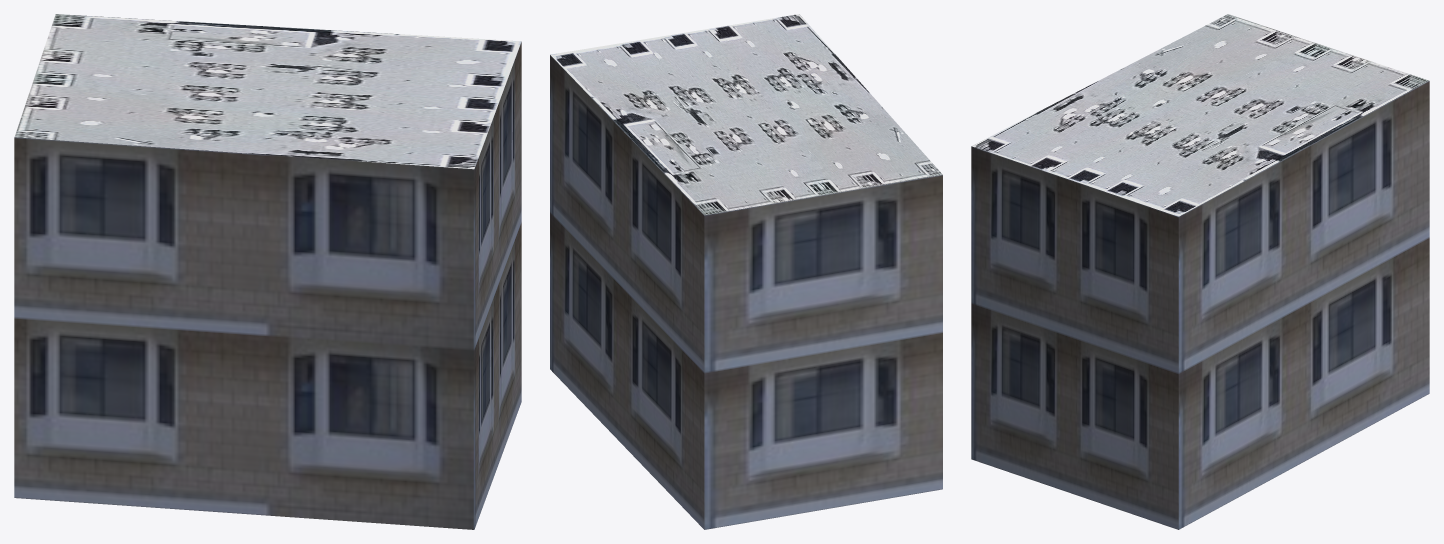
The model's file is ResTex__1777.fbx.
3 views of the same model, side by side, from view 1: azimuth 30°, elevation 25°; view 2: azimuth 150°, elevation 25°; view 3: azimuth 270°, elevation 25° (orthographic). The views are drawn at different scales.
Visible parts, largest first — view 1: CityEngineMaterial_3_m, CityEngineMaterial_8_m; view 2: CityEngineMaterial_3_m, CityEngineMaterial_8_m; view 3: CityEngineMaterial_3_m, CityEngineMaterial_8_m.
Part boxes in pixels (x1,y1,x2,y2): CityEngineMaterial_3_m: (14, 42, 521, 529); CityEngineMaterial_8_m: (14, 14, 521, 169); CityEngineMaterial_3_m: (550, 55, 942, 529); CityEngineMaterial_8_m: (550, 14, 942, 215); CityEngineMaterial_3_m: (971, 81, 1429, 529); CityEngineMaterial_8_m: (972, 14, 1428, 216).
Bounding box in the file's own units: 8.34 × 6 × 7.95.
Materials: 2 (2 with a texture image).
